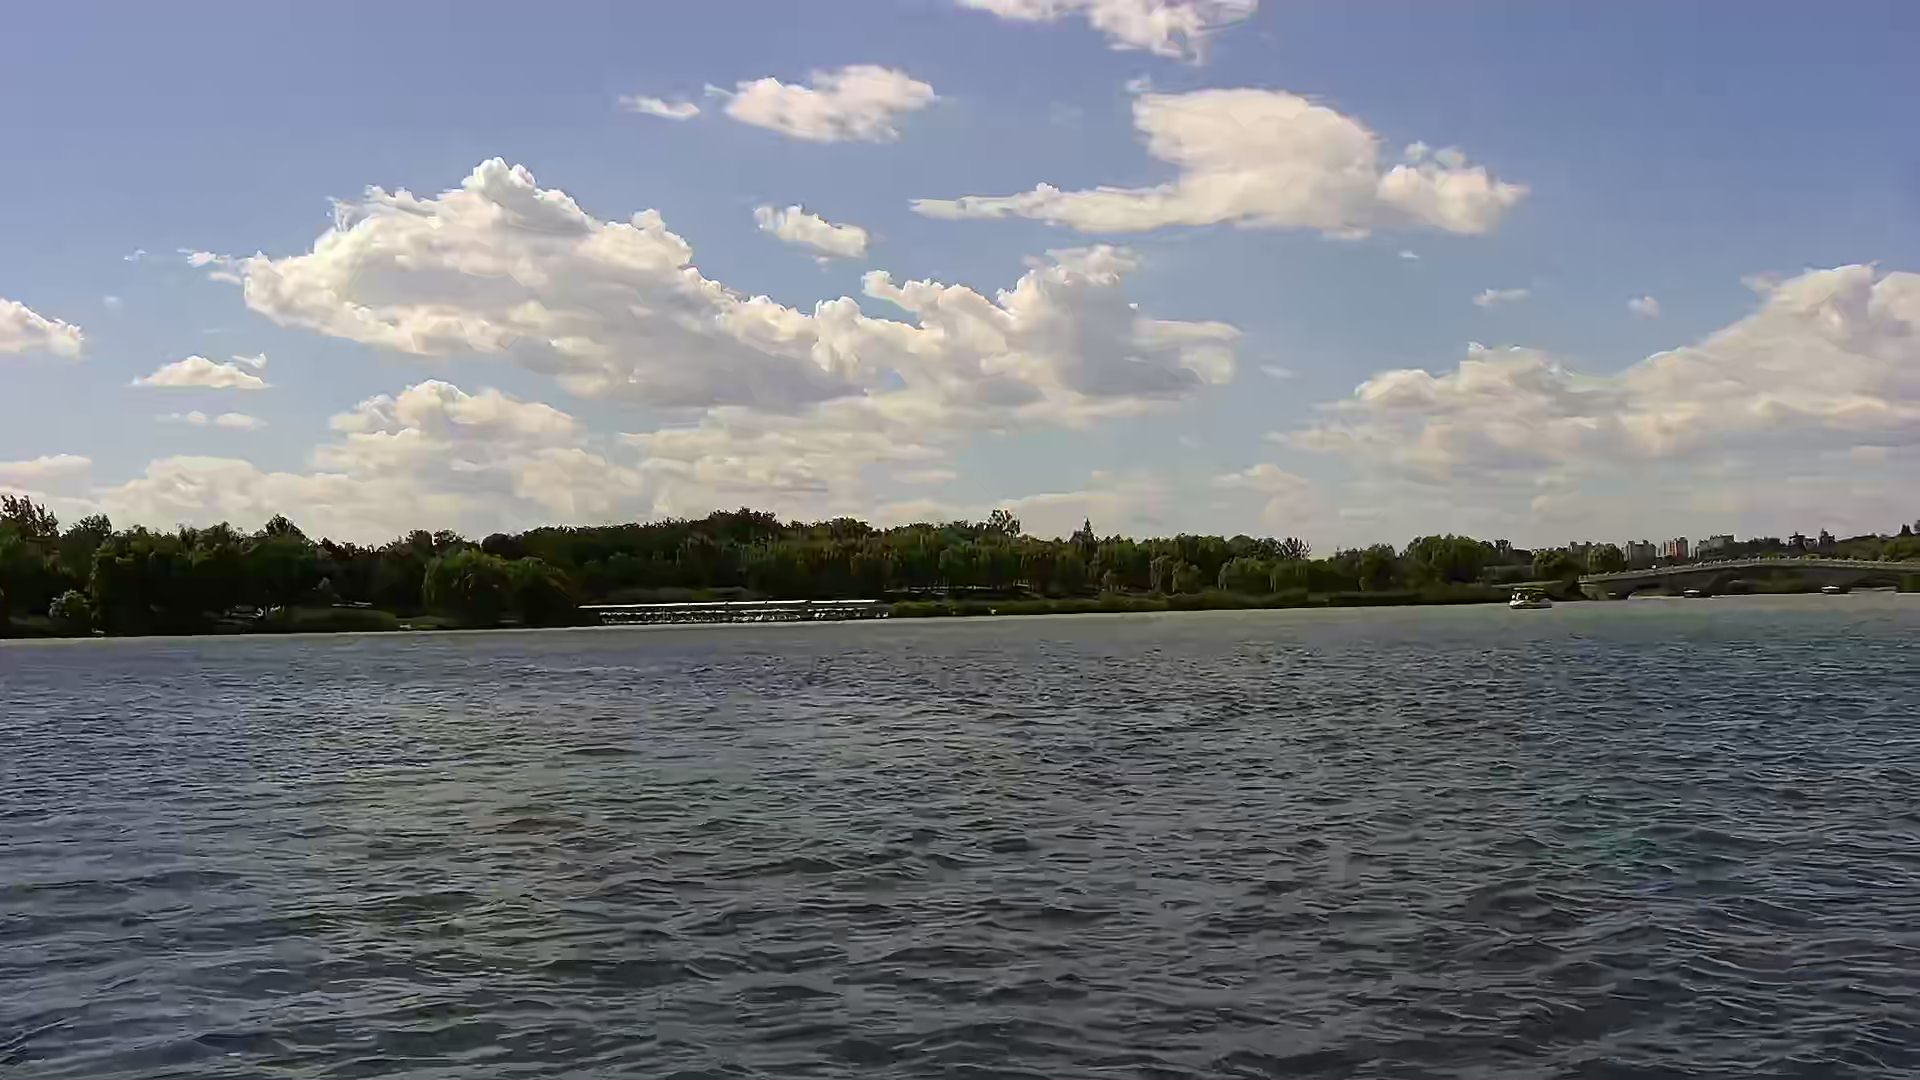boat: (1506, 585, 1561, 612)
bridge: (1578, 556, 1920, 601), (595, 597, 887, 626)
